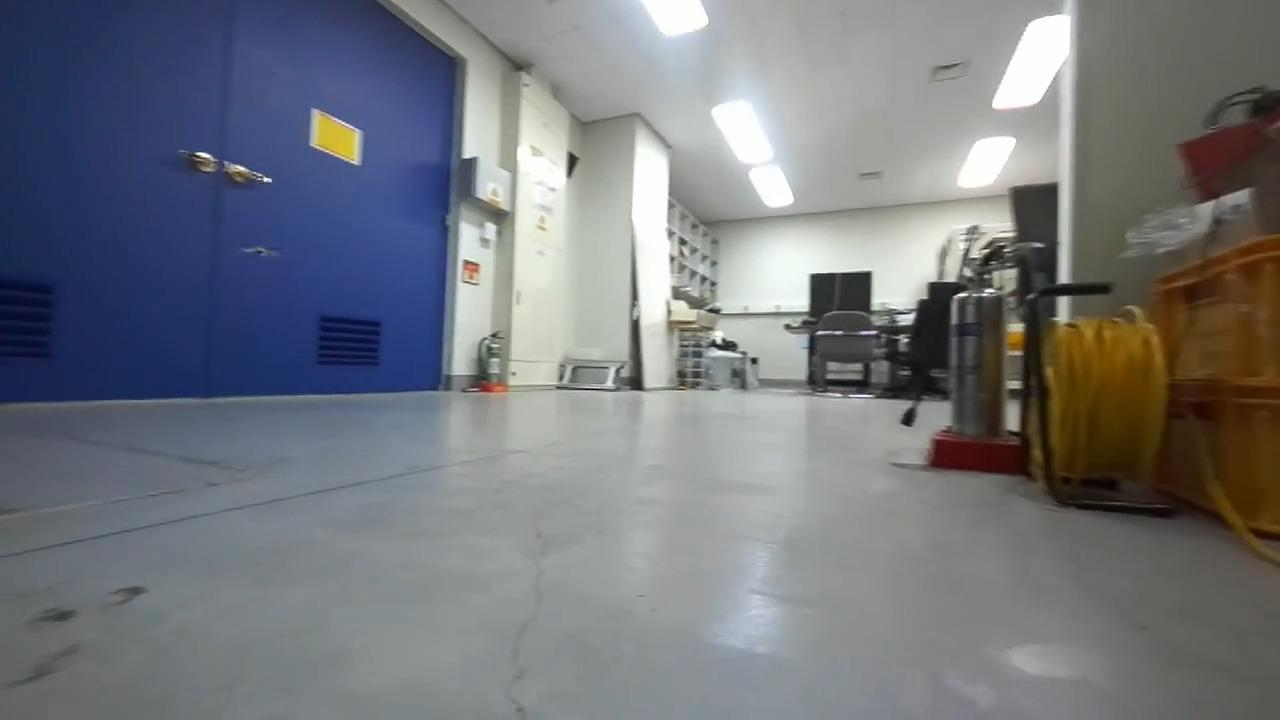crazyflie: (237, 241, 284, 262)
